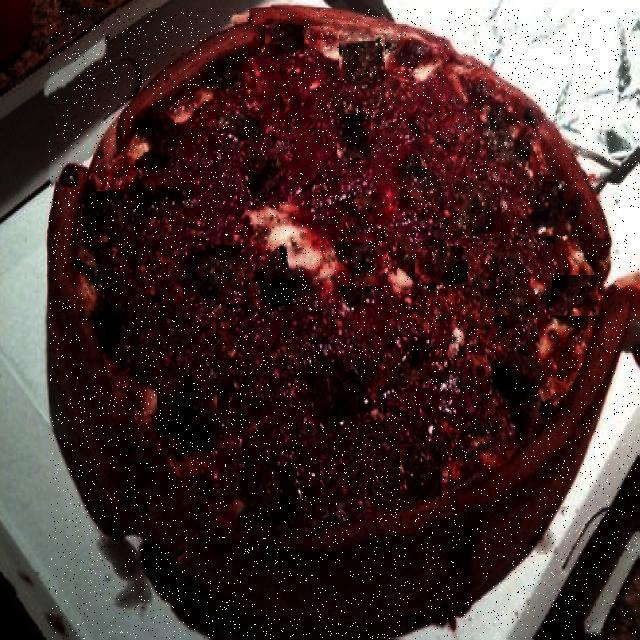Beef: (158, 380, 217, 451), (308, 373, 386, 422), (492, 353, 536, 436), (189, 246, 244, 304), (246, 468, 300, 522), (491, 254, 538, 316), (90, 294, 132, 356), (454, 182, 500, 238), (401, 446, 442, 502), (263, 252, 307, 304), (336, 243, 388, 286), (340, 36, 385, 81), (403, 160, 444, 209), (416, 248, 468, 286), (83, 192, 122, 242), (529, 182, 565, 236), (138, 114, 176, 165), (394, 338, 431, 388), (553, 276, 598, 316), (251, 156, 288, 202), (338, 115, 371, 158), (217, 116, 261, 144), (266, 26, 304, 54), (210, 68, 243, 89)
Pizza: (50, 9, 639, 639)
